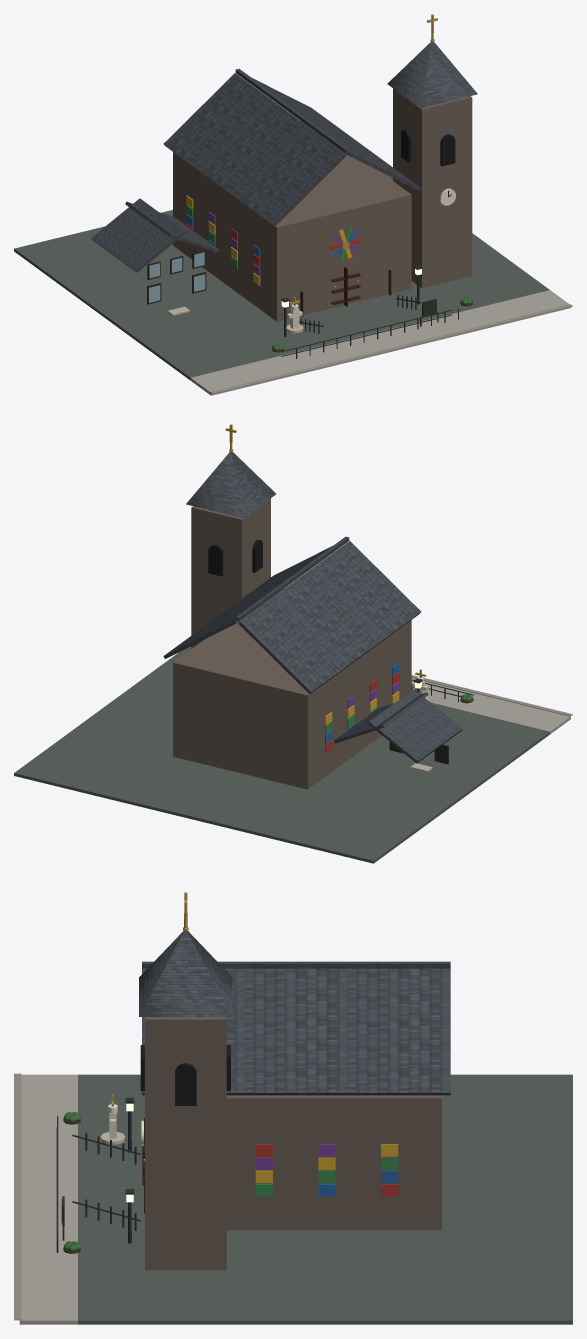
The model's file is jersey_church.glb.
3 views of the same model, one above another, from view 1: azimuth 30°, elevation 25°; view 2: azimuth 150°, elevation 25°; view 3: azimuth 270°, elevation 25° (orthographic). The views are drawn at different scales.
Size of the model in its own units: 40 by 28.62 by 38.4.
Materials: 32 (2 with a texture image).
